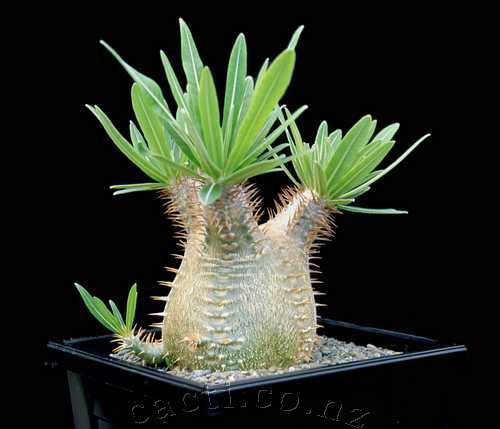Pachypodium rosulatum: (93, 40, 362, 375)
